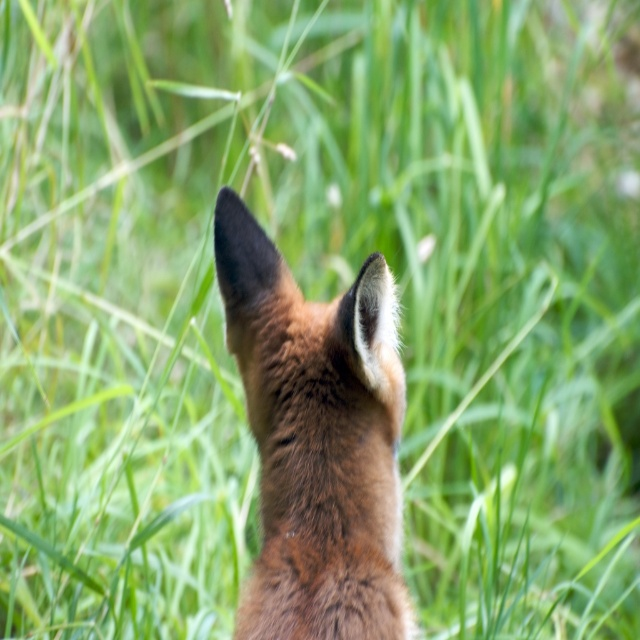Fox: (214, 183, 421, 639)
